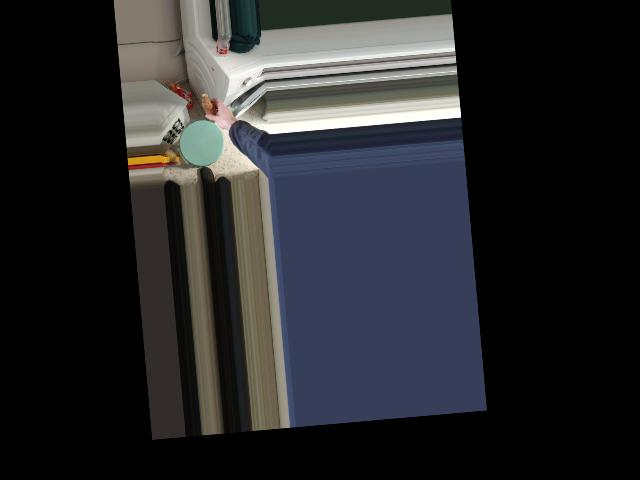sweet_potato: (201, 92, 225, 130)
